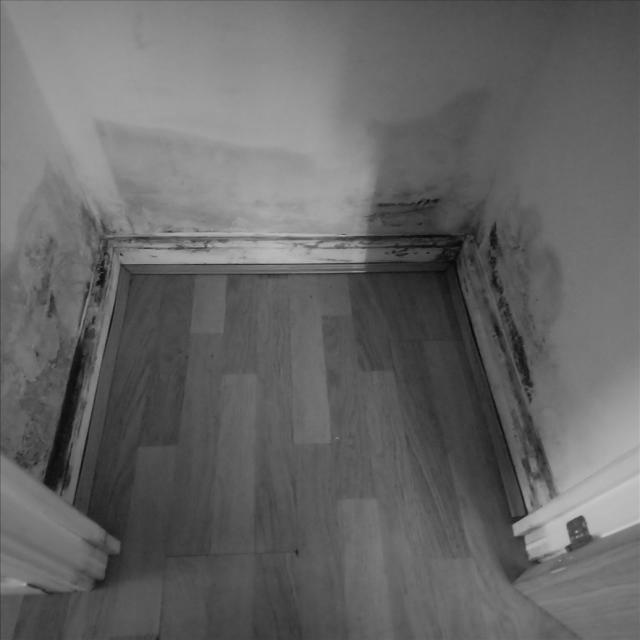stain marks: (72, 84, 528, 268), (0, 149, 130, 524), (470, 166, 584, 528), (111, 4, 172, 62)
